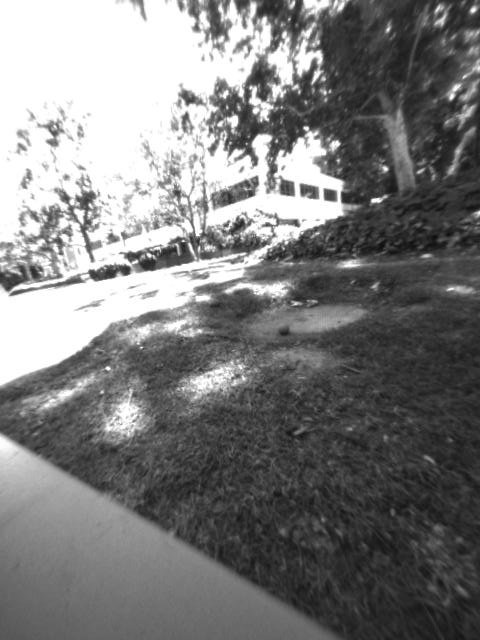dogtoy: (272, 317, 296, 340)
